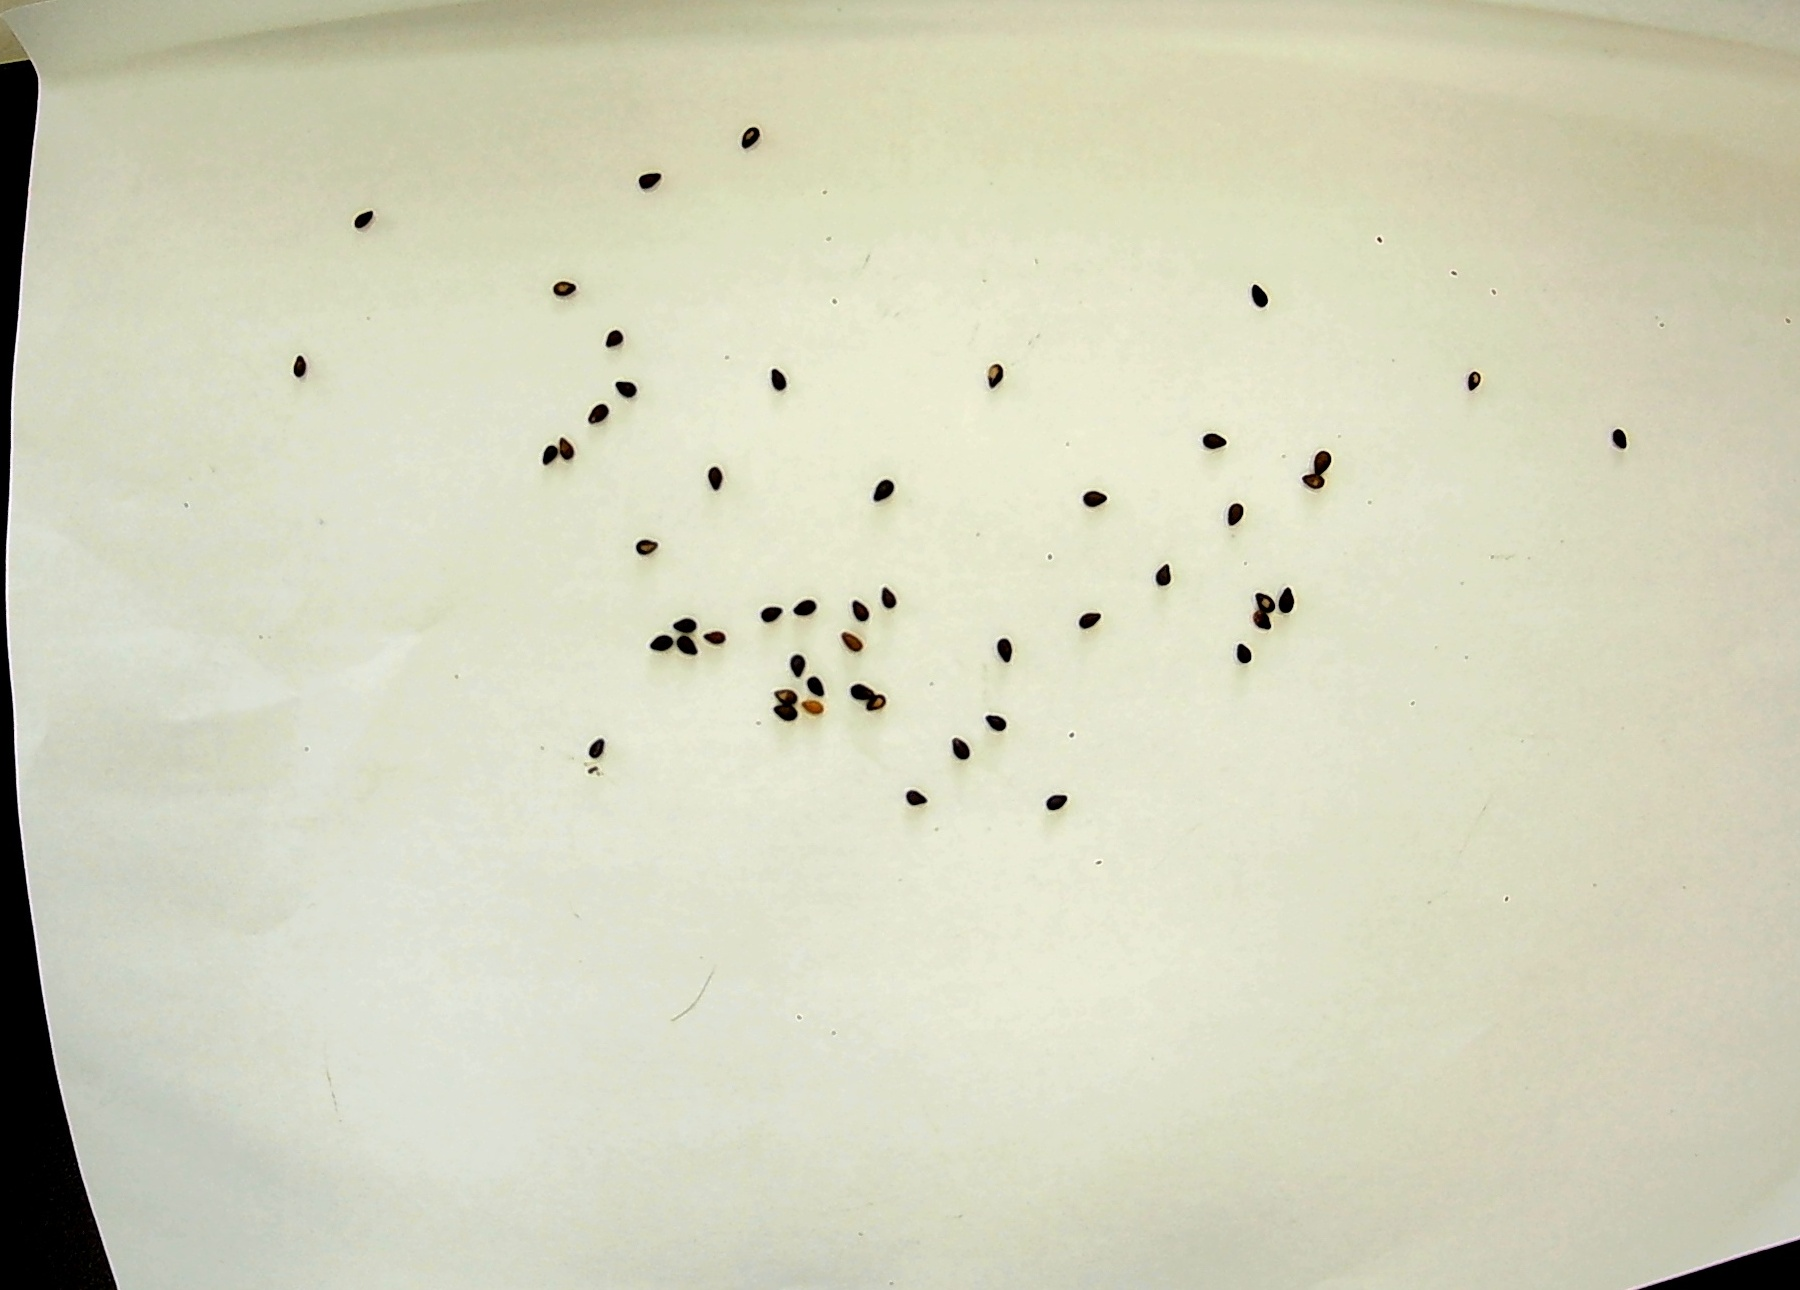sesami: (1227, 489, 1259, 549), (1072, 596, 1115, 637), (980, 690, 1012, 743), (677, 632, 714, 674), (695, 450, 727, 496), (585, 730, 627, 765), (620, 528, 666, 558), (892, 785, 938, 815), (532, 437, 567, 477), (287, 343, 318, 388), (1240, 276, 1275, 316), (560, 431, 593, 470), (696, 625, 742, 653), (1287, 475, 1338, 498), (1307, 447, 1341, 483), (992, 632, 1028, 666), (846, 595, 889, 623), (760, 595, 788, 638), (843, 630, 873, 669), (769, 646, 808, 677), (1037, 787, 1081, 814), (1277, 570, 1300, 618), (347, 201, 377, 239), (742, 119, 772, 156), (1460, 364, 1499, 392), (1200, 420, 1228, 459), (580, 396, 615, 427), (793, 596, 823, 631), (631, 172, 668, 200), (1600, 427, 1642, 452), (541, 269, 580, 296), (1079, 484, 1118, 511), (975, 357, 1007, 390), (949, 732, 975, 769), (878, 585, 915, 611), (643, 634, 678, 662), (614, 371, 640, 408), (760, 681, 795, 708), (1238, 634, 1260, 674), (1153, 561, 1185, 589), (762, 366, 795, 392), (800, 699, 839, 722), (871, 476, 900, 504), (675, 607, 707, 632), (1247, 585, 1277, 610), (1242, 611, 1274, 634), (802, 677, 834, 699), (766, 713, 804, 732), (596, 327, 628, 348), (848, 679, 869, 706), (869, 697, 894, 713)
